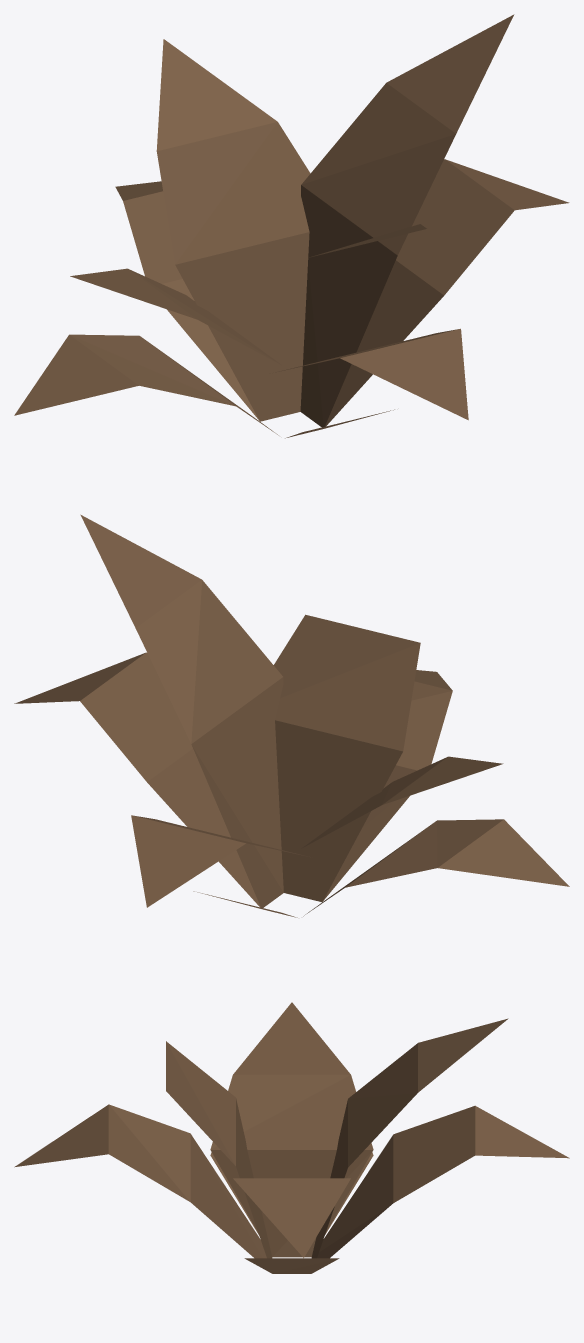
File: bush_dry.glb
3 renders of one model, top to bottom at view 1: azimuth 30°, elevation 25°; view 2: azimuth 150°, elevation 25°; view 3: azimuth 270°, elevation 25°, orthographic. The views are drawn at different scales.
Visible parts, largest first — view 1: bush_dry; view 2: bush_dry; view 3: bush_dry.
Boxes of the visible parts, <box> form: bush_dry: <box>14,14,569,438</box>; bush_dry: <box>14,514,569,917</box>; bush_dry: <box>14,1002,569,1273</box>.
Size of the model in its own units: 1.5 by 0.9 by 1.5.
